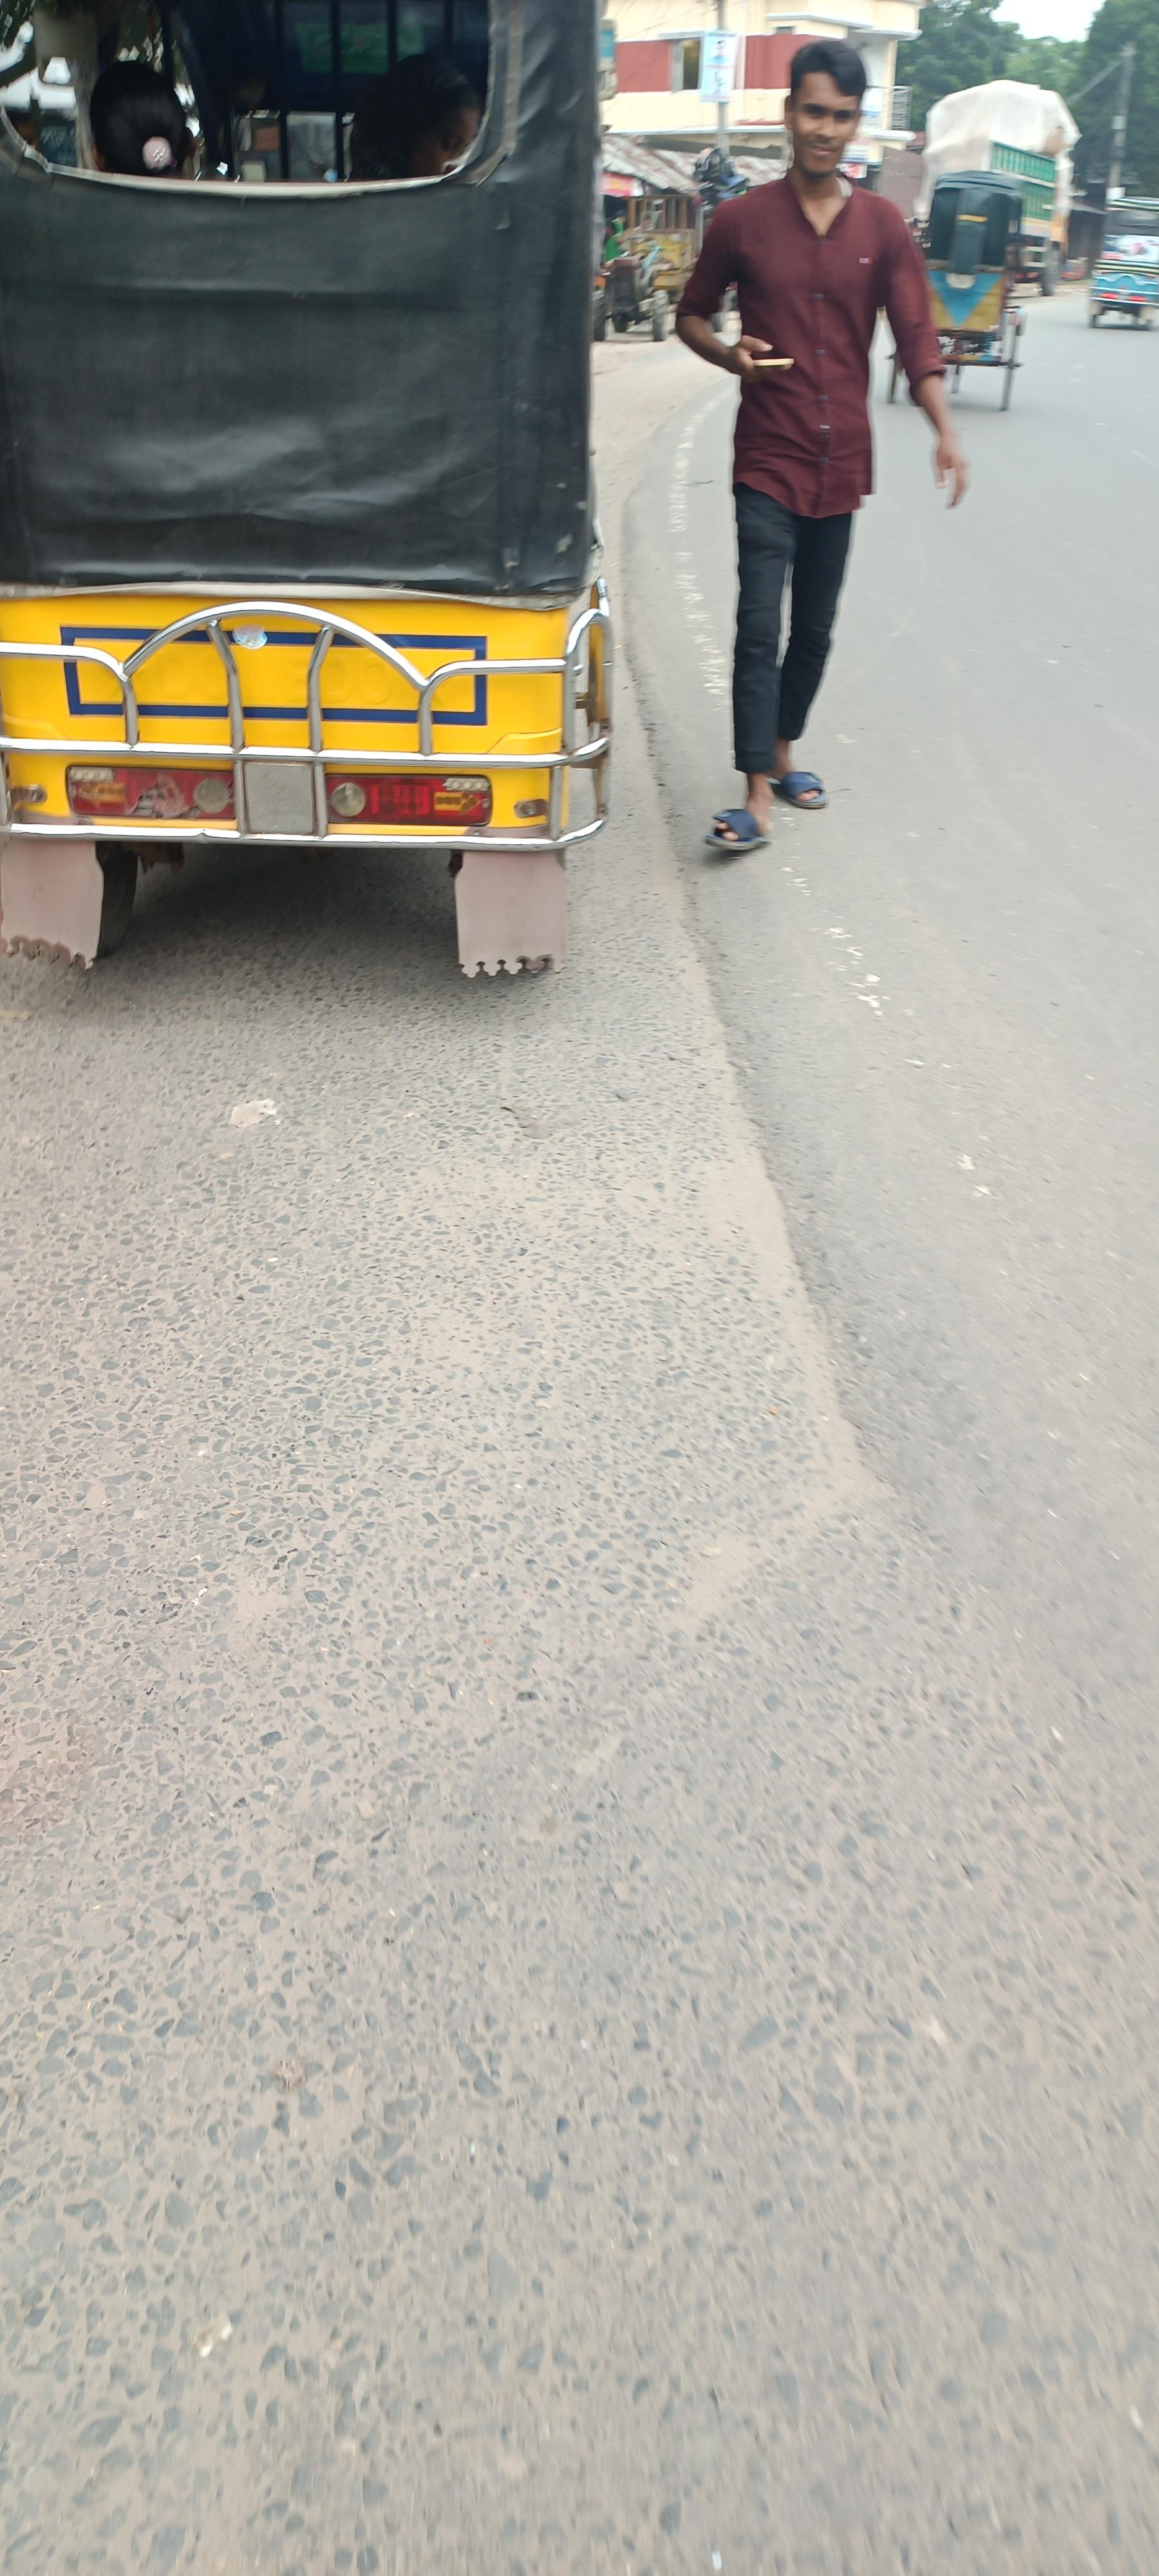Garbage-bin: (673, 39, 972, 851), (346, 51, 483, 179), (87, 61, 197, 176)
Traffic-cone: (0, 0, 630, 1023)
